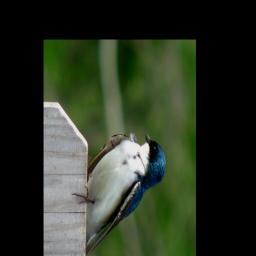Swallow: (70, 130, 168, 256)
